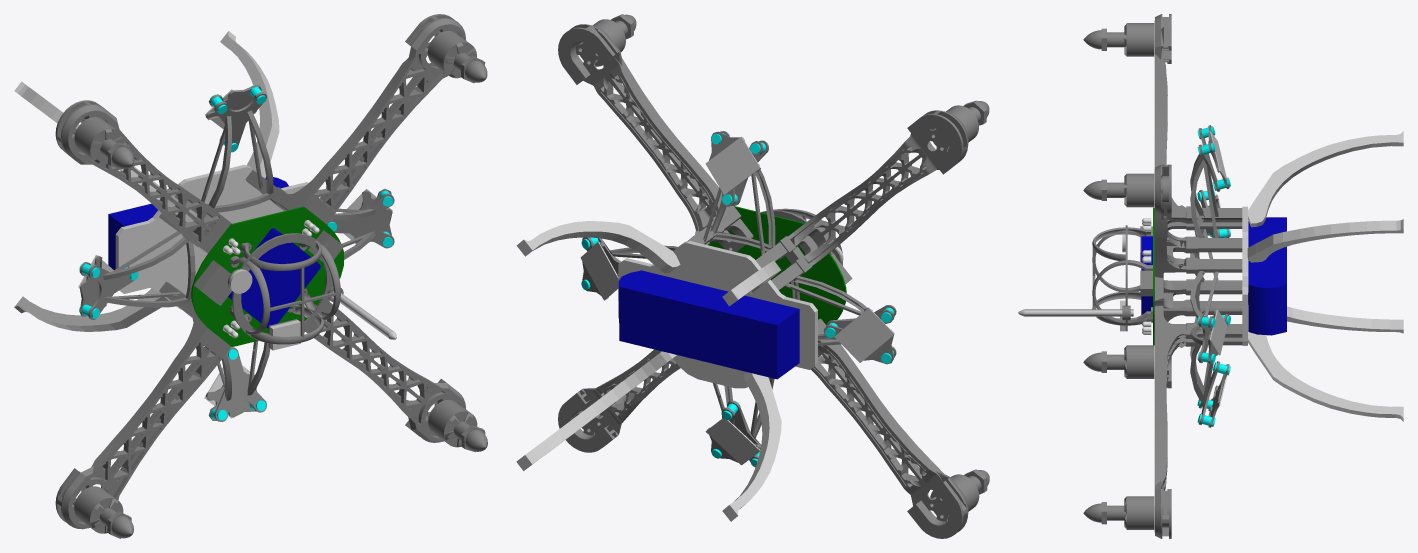
The model's file is drone.obj.
The picture shows the model from 3 angles, left to right: view 1: azimuth 30°, elevation 25°; view 2: azimuth 150°, elevation 25°; view 3: azimuth 270°, elevation 25°; orthographic projection. The views are drawn at different scales.
Bounding box in the file's own units: 0.3738 × 0.3737 × 0.3529.
